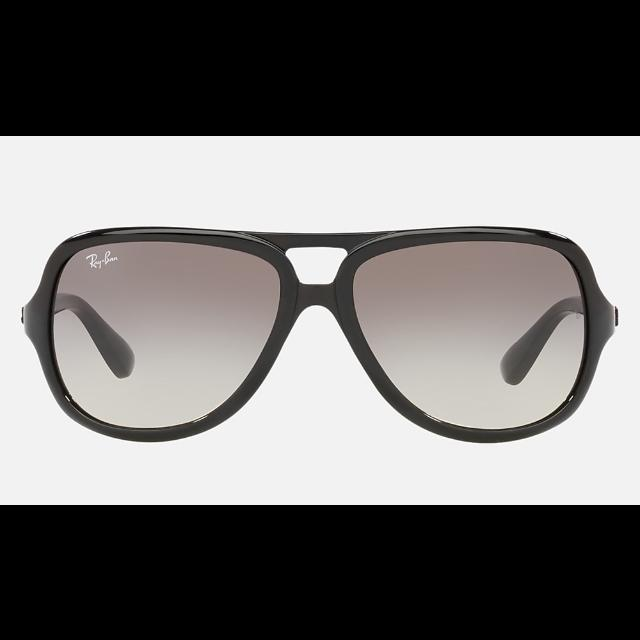Sunglasses: (19, 223, 620, 444)
